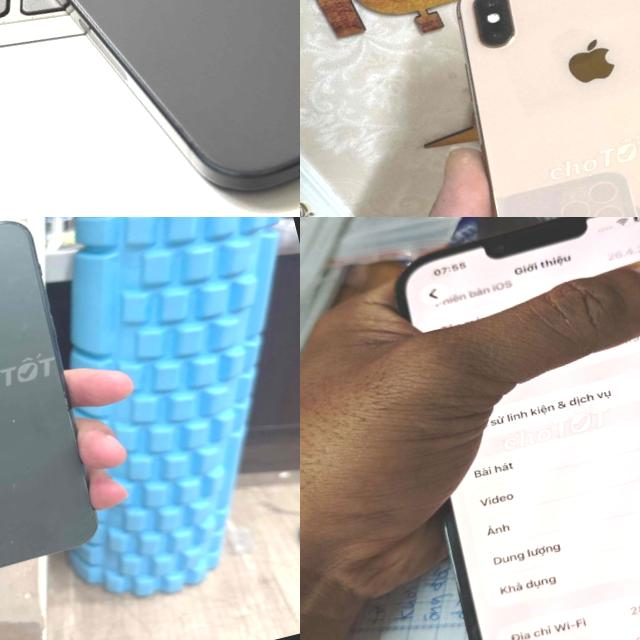gen_11: (0, 217, 143, 624)
gen_12_13: (353, 217, 640, 640)
gen_15: (0, 0, 300, 217)
gen_x_xs: (432, 0, 640, 217)
scratch: (0, 527, 37, 555), (1, 410, 26, 436)
